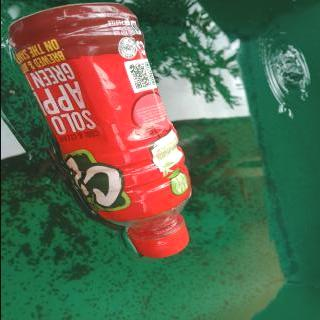bottle: (6, 2, 194, 260)
